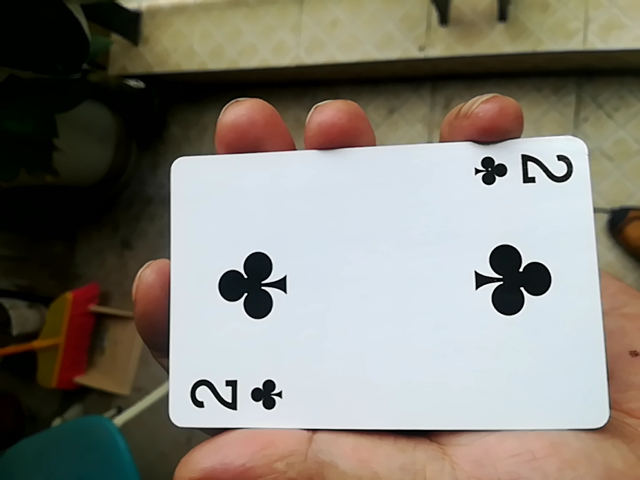mh 2: (154, 137, 602, 442)
